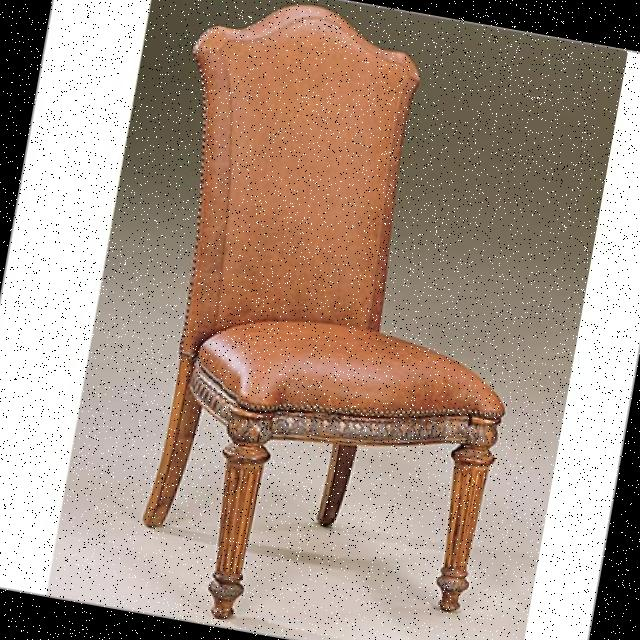Chair: (62, 0, 605, 640)
